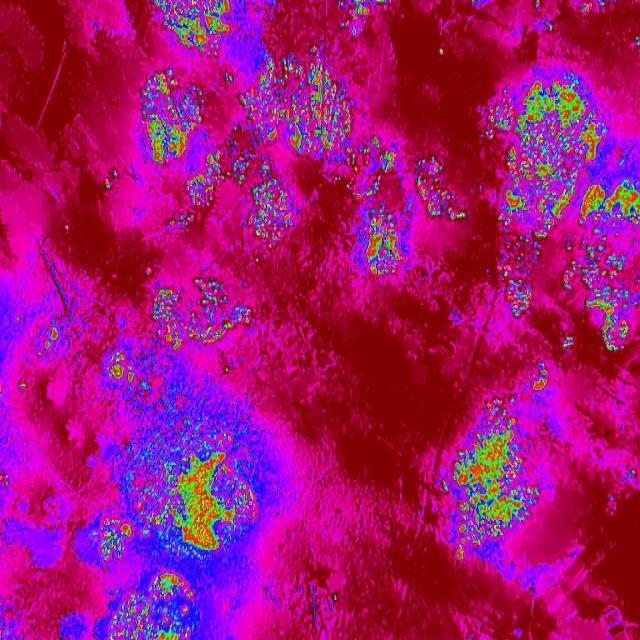fire: (120, 415, 266, 560), (482, 72, 608, 227), (440, 395, 540, 563), (248, 47, 354, 164), (560, 246, 637, 353), (152, 275, 252, 351), (104, 567, 198, 640), (140, 68, 204, 162), (498, 226, 546, 320), (153, 0, 234, 55), (356, 204, 408, 280), (248, 167, 297, 246), (412, 154, 467, 220), (353, 134, 397, 198), (138, 377, 190, 415), (607, 169, 640, 227), (94, 516, 122, 564), (224, 124, 245, 184), (204, 152, 223, 213), (102, 354, 136, 385), (338, 0, 389, 14), (530, 361, 550, 394), (40, 326, 59, 356), (186, 174, 203, 204), (165, 210, 196, 226), (340, 15, 366, 34), (595, 227, 613, 247), (104, 172, 120, 189), (541, 19, 555, 35), (238, 90, 248, 110), (222, 70, 233, 86), (0, 472, 10, 489), (624, 468, 636, 481), (580, 2, 589, 16), (533, 0, 544, 10), (332, 172, 341, 183), (345, 180, 352, 194), (224, 364, 232, 376), (438, 46, 447, 56), (634, 34, 640, 48), (469, 0, 490, 4), (19, 382, 27, 392), (14, 314, 22, 324), (597, 0, 610, 6), (143, 268, 150, 278), (253, 258, 261, 266), (332, 594, 341, 600), (484, 266, 490, 275)
